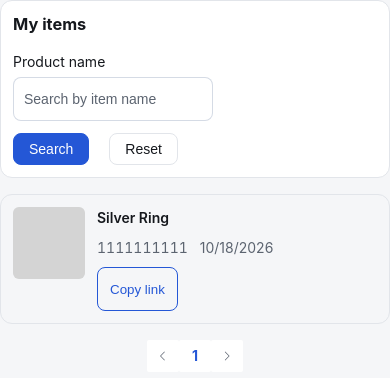
items page › lists the creator's items with the transit link copy button
Click the button with test id "item-copy". click: point(137, 289)
box: [97,267,178,311]
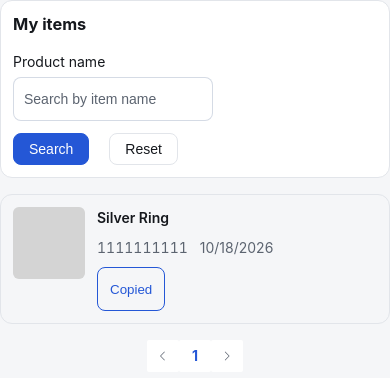
Expected: the text "Copied" is shown, [97,267,165,311]
